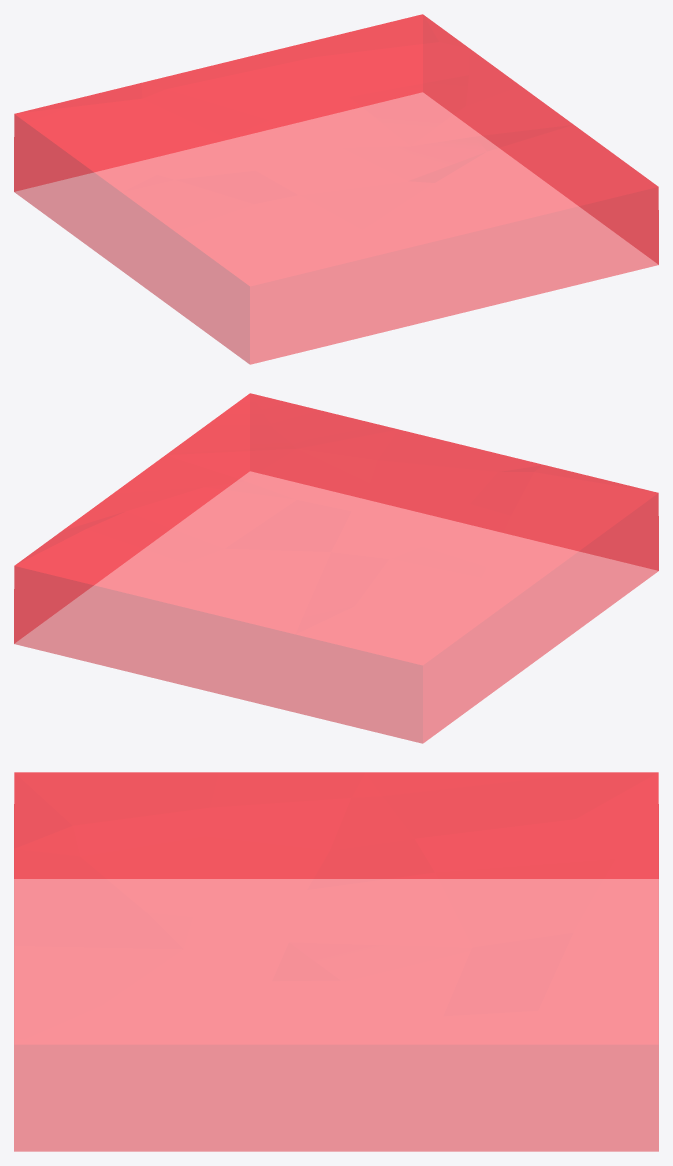
The model's file is PowerPilon@Intro.fbx.
3 views of the same model, one above another, from view 1: azimuth 30°, elevation 25°; view 2: azimuth 150°, elevation 25°; view 3: azimuth 270°, elevation 25° (orthographic). The views are drawn at different scales.
Visible parts, largest first — view 1: Player_Blocker_Shield; view 2: Player_Blocker_Shield; view 3: Player_Blocker_Shield.
Boxes of the visible parts, x1,y1,x2,y2 form: Player_Blocker_Shield: (14, 14, 658, 364); Player_Blocker_Shield: (14, 393, 658, 743); Player_Blocker_Shield: (14, 772, 658, 1151).
Bounding box in the file's own units: 654 × 145 × 654.
